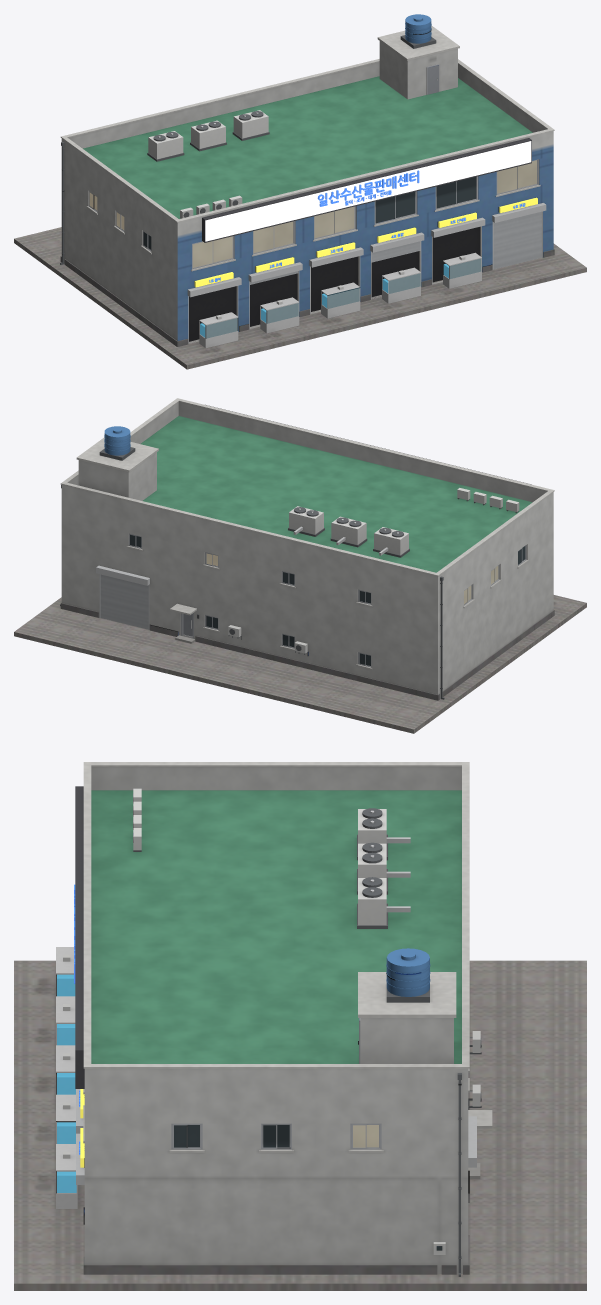
Rendered from IlsanMarket01_LOD1.fbx.
3 views of the same model, one above another, from view 1: azimuth 30°, elevation 25°; view 2: azimuth 150°, elevation 25°; view 3: azimuth 270°, elevation 25° (orthographic). The views are drawn at different scales.
Visible parts, largest first — view 1: IlsanMarket01_LOD1; view 2: IlsanMarket01_LOD1; view 3: IlsanMarket01_LOD1.
Boxes of the visible parts, left/top/right/bottom form: IlsanMarket01_LOD1: left=14, top=14, right=586, bottom=369; IlsanMarket01_LOD1: left=14, top=398, right=586, bottom=733; IlsanMarket01_LOD1: left=14, top=762, right=586, bottom=1290.
Bounding box in the file's own units: 31.9 × 13.65 × 23.9.
Materials: 1 (1 with a texture image).
